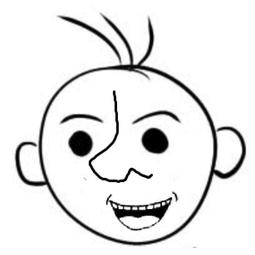ear: (207, 124, 247, 181), (13, 137, 50, 189)
eye: (66, 127, 94, 157), (141, 127, 169, 154)
eyebrow: (131, 108, 181, 124), (56, 113, 104, 124)
large_nose: (87, 88, 157, 186)
open_mouth: (104, 189, 177, 234)
